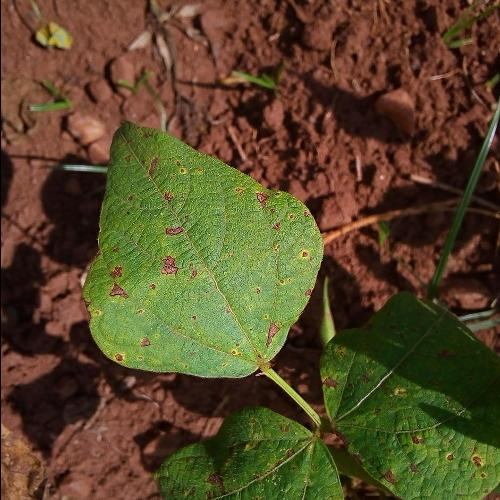hawar: (92, 157, 288, 374)
